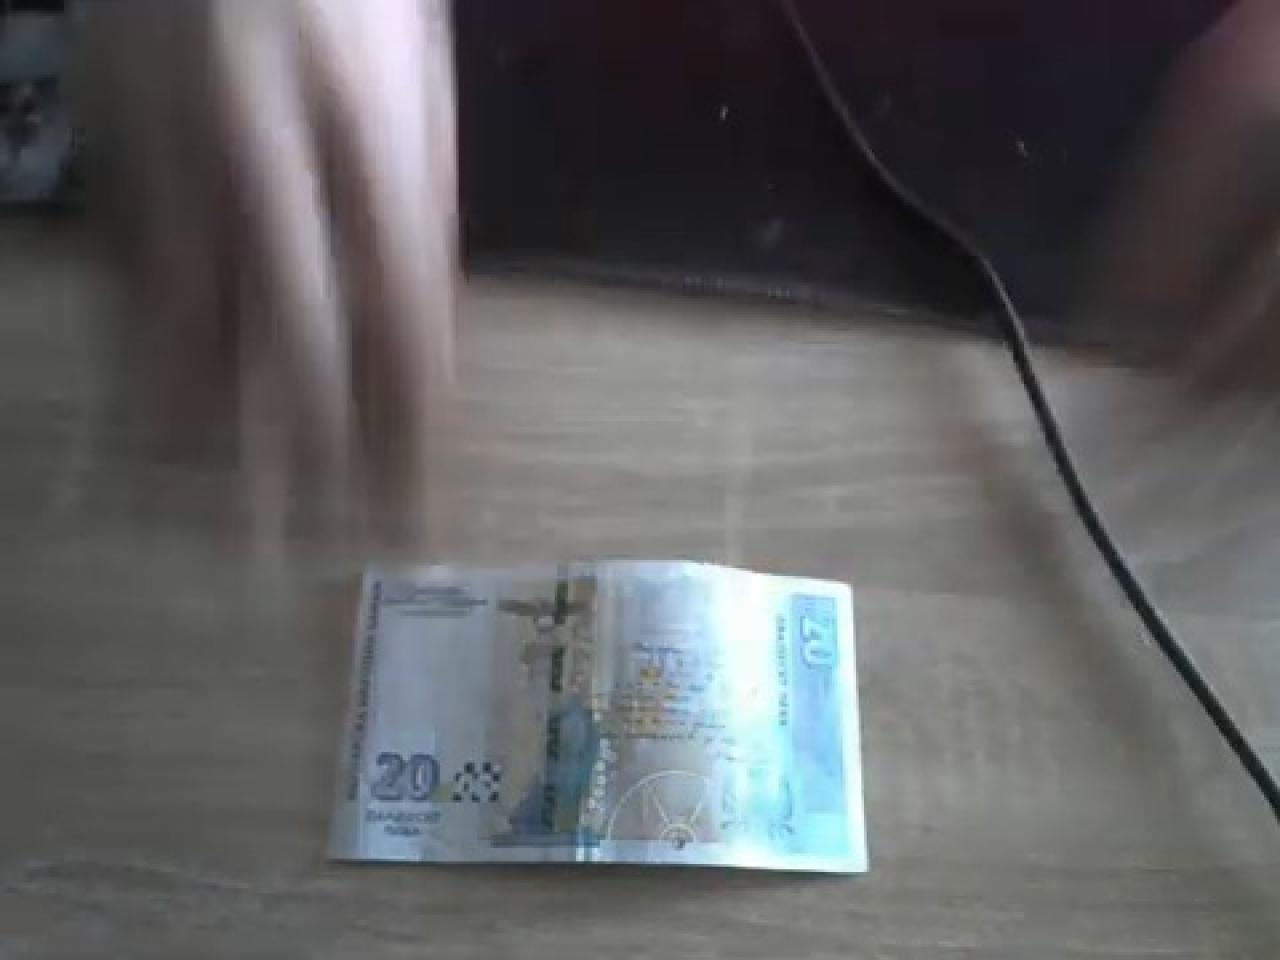20leva: (328, 565, 624, 869)
